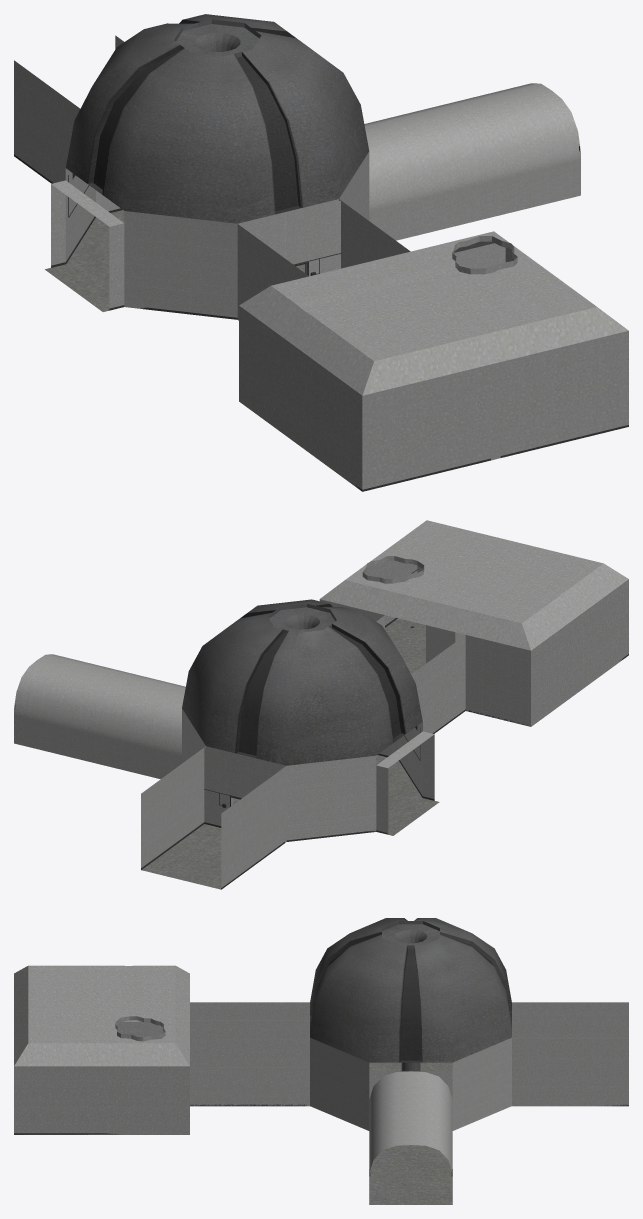
Rendered from Lobby_LockerRoom.fbx.
3 renders of one model, top to bottom at view 1: azimuth 30°, elevation 25°; view 2: azimuth 150°, elevation 25°; view 3: azimuth 270°, elevation 25°, orthographic. The views are drawn at different scales.
Visible parts, largest first — view 1: Dome, pPlane26, pCube71, pPlane29, pCube68, pPlane16, pPlane28, pCube73, pCube119, pCube64, pCube63, polySurface54 (+8 smaller); view 2: Dome, pPlane26, pPlane29, pCube68, pPlane14, pCube67, pCube73, pCube74, pPlane27, pCube64, pCube93, pPlane23 (+10 smaller); view 3: Dome, pPlane26, pCube65, pCube63, pCube74, pPlane29, pPlane19, pCube64, pCube73, pPlane18, pPlane12, polySurface54 (+2 smaller).
Part boxes in pixels (box(x1,y1,x2,y2)): Dome: box(66, 14, 369, 223); pPlane26: box(239, 231, 628, 395); pCube71: box(362, 331, 628, 489); pPlane29: box(364, 83, 580, 211); pCube68: box(239, 305, 362, 489); pPlane16: box(124, 211, 237, 317); pPlane28: box(369, 160, 580, 240); pCube73: box(14, 60, 80, 182); pCube119: box(238, 199, 340, 276); pCube64: box(237, 224, 308, 320); pCube63: box(339, 199, 410, 268); polySurface54: box(66, 210, 304, 295); Dome: box(182, 599, 422, 765); pPlane26: box(320, 520, 628, 650); pPlane29: box(14, 654, 185, 756); pCube68: box(531, 579, 628, 726); pPlane14: box(286, 755, 376, 840); pCube67: box(465, 635, 530, 726); pCube73: box(221, 766, 286, 887); pCube74: box(141, 746, 205, 867); pPlane27: box(14, 715, 181, 779); pCube64: box(411, 635, 465, 733); pCube93: box(204, 746, 286, 825); pPlane23: box(141, 824, 221, 889); Dome: box(310, 918, 511, 1071); pPlane26: box(14, 965, 189, 1066); pCube65: box(14, 1066, 189, 1134); pCube63: box(190, 1037, 309, 1106); pCube74: box(512, 1037, 628, 1106); pPlane29: box(369, 1071, 452, 1170); pPlane19: box(369, 1145, 452, 1204); pCube64: box(190, 1002, 309, 1037); pCube73: box(512, 1002, 628, 1037); pPlane18: box(310, 1037, 369, 1130); pPlane12: box(452, 1037, 511, 1130); polySurface54: box(369, 1062, 452, 1071).
Bounding box in the file's own units: 3297 × 1436 × 5150.
